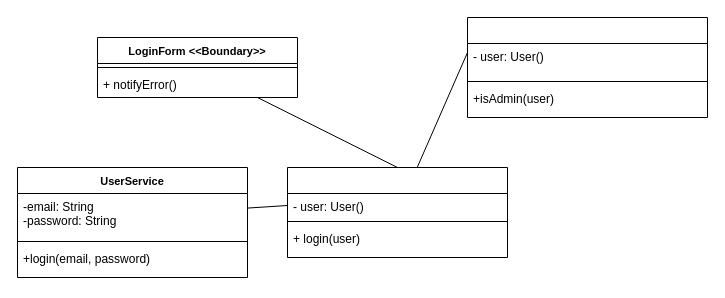
Image size: 725x298. Some labels were removed from this diagram. Here are the shapes that lost their labels. From the top down, the box of each, then its label:
(466, 16, 708, 118): User <<Entity>>
(286, 166, 508, 258): LoginController <<Controller>>
